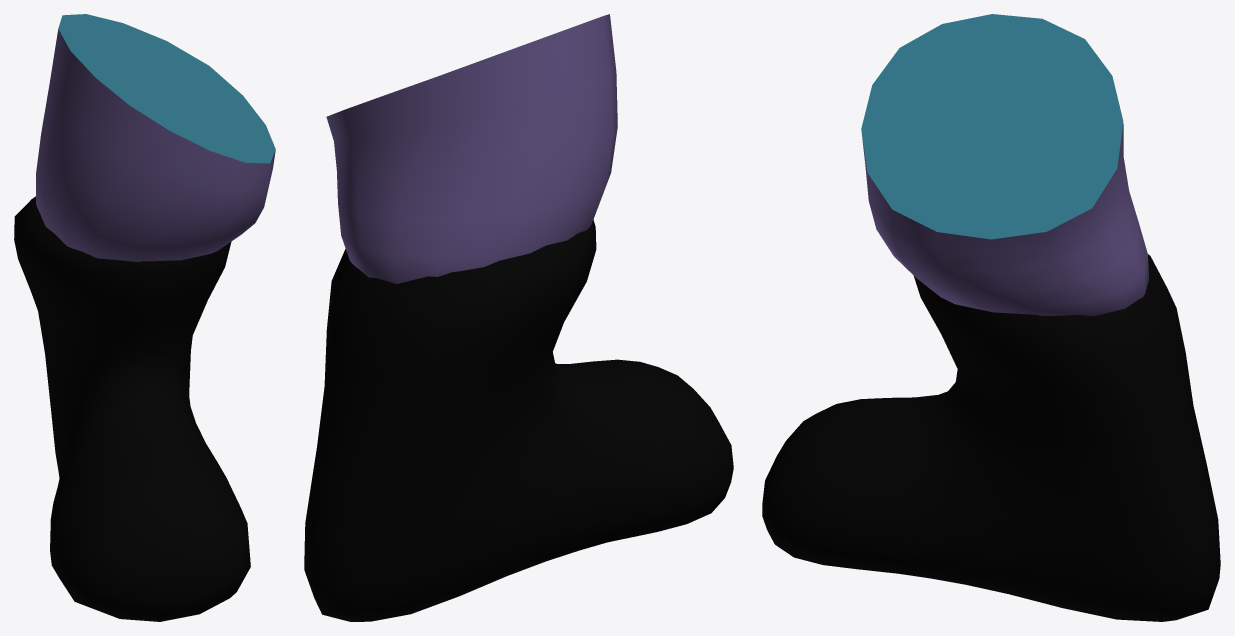
Rendered from PurpleLeg.fbx.
3 renders of one model, left to right at view 1: azimuth 30°, elevation 25°; view 2: azimuth 150°, elevation 25°; view 3: azimuth 270°, elevation 25°, orthographic. The views are drawn at different scales.
Parts seen in each view (by area): view 1: polySurface16; view 2: polySurface16; view 3: polySurface16.
Boxes of the visible parts, bbox=[...] form: polySurface16: bbox=[14, 14, 275, 621]; polySurface16: bbox=[304, 14, 733, 621]; polySurface16: bbox=[762, 14, 1220, 621].
Size of the model in its own units: 33.09 by 61.92 by 46.88.
